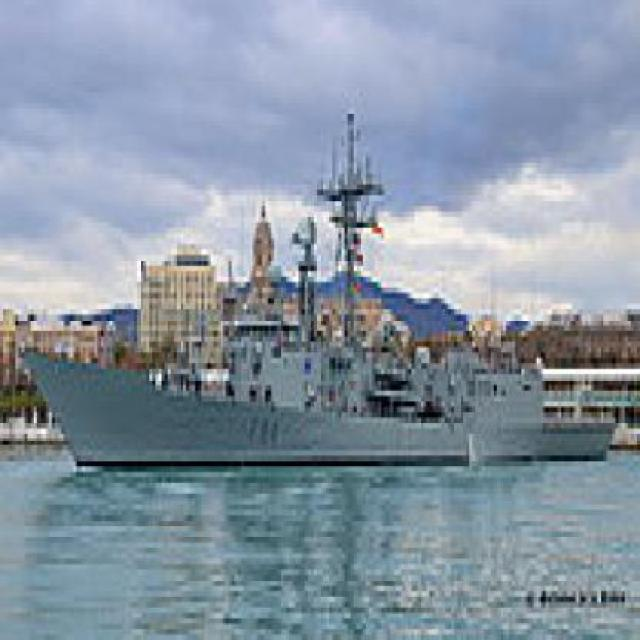warship2: (20, 126, 620, 478)
